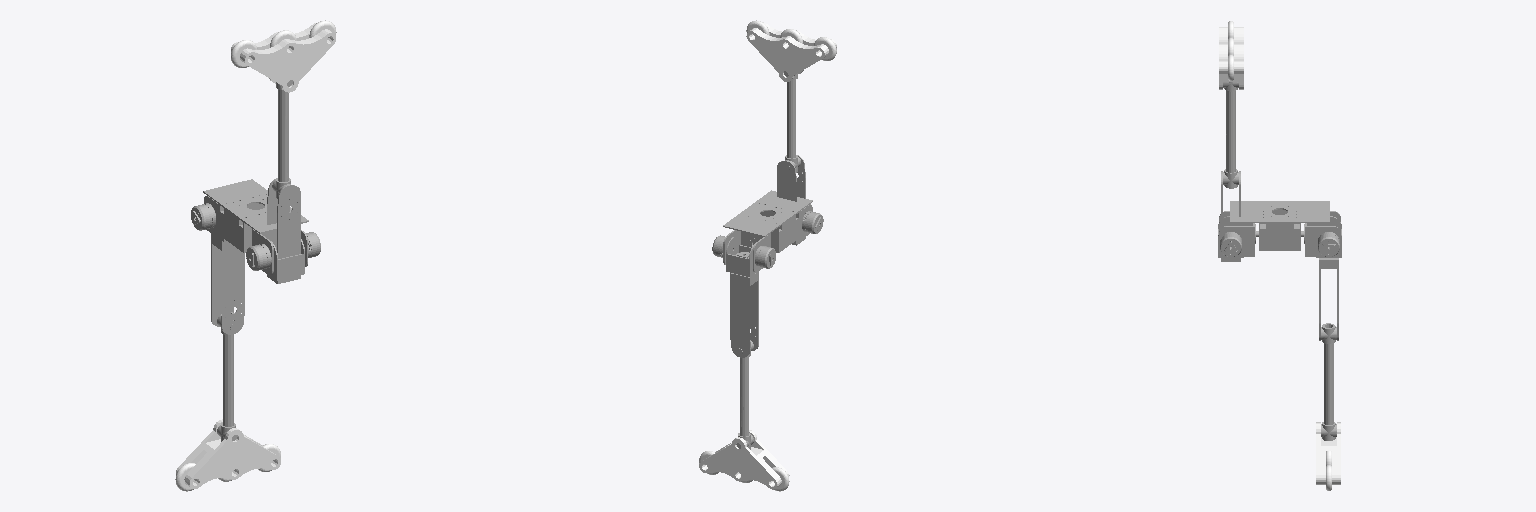
URDF robot description (Robot_Test):
<?xml version="1.0" encoding="utf-8"?>
<!-- This URDF was automatically created by SolidWorks to URDF Exporter! Originally created by [author] ([email redacted]) 
     Commit Version: 1.6.0-4-g7f85cfe  Build Version: 1.6.7995.38578
     For more information, please see http://wiki.ros.org/sw_urdf_exporter -->
<robot
  name="Robot_Test">
  <link
    name="base_link">
    <inertial>
      <origin
        xyz="1.38777878078145E-16 0 0.0127778759781516"
        rpy="0 0 0" />
      <mass
        value="1.01502616728323" />
      <inertia
        ixx="0.00199169500029189"
        ixy="-8.27963284748999E-07"
        ixz="2.38157893592389E-18"
        iyy="0.00128309024140103"
        iyz="3.02631370336162E-20"
        izz="0.00270762501832606" />
    </inertial>
    <visual>
      <origin
        xyz="0 0 0"
        rpy="0 0 0" />
      <geometry>
        <mesh
          filename="package://Robot_Test/meshes/base_link.STL" />
      </geometry>
      <material
        name="">
        <color
          rgba="0.752941176470588 0.752941176470588 0.752941176470588 1" />
      </material>
    </visual>
    <collision>
      <origin
        xyz="0 0 0"
        rpy="0 0 0" />
      <geometry>
        <mesh
          filename="package://Robot_Test/meshes/base_link.STL" />
      </geometry>
    </collision>
  </link>
  <link
    name="Link_Tip_Pitch_R">
    <inertial>
      <origin
        xyz="7.26667524280356E-05 7.16410264445244E-12 0.0599676329518597"
        rpy="0 0 0" />
      <mass
        value="0.588138632359538" />
      <inertia
        ixx="0.000628889034144778"
        ixy="-1.3926293459223E-07"
        ixz="6.01392594346271E-08"
        iyy="0.000508580005596835"
        iyz="-6.99398789319623E-07"
        izz="0.000590533605048368" />
    </inertial>
    <visual>
      <origin
        xyz="0 0 0"
        rpy="0 0 0" />
      <geometry>
        <mesh
          filename="package://Robot_Test/meshes/Link_Tip_Pitch_R.STL" />
      </geometry>
      <material
        name="">
        <color
          rgba="0.752941176470588 0.752941176470588 0.752941176470588 1" />
      </material>
    </visual>
    <collision>
      <origin
        xyz="0 0 0"
        rpy="0 0 0" />
      <geometry>
        <mesh
          filename="package://Robot_Test/meshes/Link_Tip_Pitch_R.STL" />
      </geometry>
    </collision>
  </link>
  <joint
    name="Tip_Pitch_R"
    type="revolute">
    <origin
      xyz="0 -0.07610000000001 0"
      rpy="1.57079632679489 1.5707963267949 0" />
    <parent
      link="base_link" />
    <child
      link="Link_Tip_Pitch_R" />
    <axis
      xyz="0 0 -1" />
    <limit
      lower="-3.14"
      upper="3.14"
      effort="10"
      velocity="1" />
  </joint>
  <link
    name="Link_Tip_Roll_R">
    <inertial>
      <origin
        xyz="0.0313786304226126 -0.00010396532346521 0.0389036272187343"
        rpy="0 0 0" />
      <mass
        value="0.330942372833192" />
      <inertia
        ixx="0.000175362379790137"
        ixy="4.85120300723541E-07"
        ixz="1.22897229556697E-08"
        iyy="0.00015737545608147"
        iyz="-1.8662787654118E-09"
        izz="0.000164229108181993" />
    </inertial>
    <visual>
      <origin
        xyz="0 0 0"
        rpy="0 0 0" />
      <geometry>
        <mesh
          filename="package://Robot_Test/meshes/Link_Tip_Roll_R.STL" />
      </geometry>
      <material
        name="">
        <color
          rgba="0.752941176470588 0.752941176470588 0.752941176470588 1" />
      </material>
    </visual>
    <collision>
      <origin
        xyz="0 0 0"
        rpy="0 0 0" />
      <geometry>
        <mesh
          filename="package://Robot_Test/meshes/Link_Tip_Roll_R.STL" />
      </geometry>
    </collision>
  </link>
  <joint
    name="Tip_Roll_R"
    type="revolute">
    <origin
      xyz="0 -0.0388999999999912 0.0699999999999998"
      rpy="-1.5707963267949 0 0" />
    <parent
      link="Link_Tip_Pitch_R" />
    <child
      link="Link_Tip_Roll_R" />
    <axis
      xyz="0 0 1" />
    <limit
      lower="-3.14"
      upper="3.14"
      effort="10"
      velocity="1" />
  </joint>
  <link
    name="Link_Tip_Yaw_R">
    <inertial>
      <origin
        xyz="0.000220549994087438 0.000208565009961026 0.081091941480044"
        rpy="0 0 0" />
      <mass
        value="0.246255723847474" />
      <inertia
        ixx="0.000911459330824827"
        ixy="-5.78607700305177E-21"
        ixz="-6.3352921638675E-06"
        iyy="0.000991950074887344"
        iyz="-1.47831497347633E-20"
        izz="0.000123172179108965" />
    </inertial>
    <visual>
      <origin
        xyz="0 0 0"
        rpy="0 0 0" />
      <geometry>
        <mesh
          filename="package://Robot_Test/meshes/Link_Tip_Yaw_R.STL" />
      </geometry>
      <material
        name="">
        <color
          rgba="0.752941176470588 0.752941176470588 0.752941176470588 1" />
      </material>
    </visual>
    <collision>
      <origin
        xyz="0 0 0"
        rpy="0 0 0" />
      <geometry>
        <mesh
          filename="package://Robot_Test/meshes/Link_Tip_Yaw_R.STL" />
      </geometry>
    </collision>
  </link>
  <joint
    name="Tip_Yaw_R"
    type="revolute">
    <origin
      xyz="0.0721000000000094 0 0.0388999999999823"
      rpy="0 -1.5707963267949 0" />
    <parent
      link="Link_Tip_Roll_R" />
    <child
      link="Link_Tip_Yaw_R" />
    <axis
      xyz="0 0 -1" />
    <limit
      lower="-3.14"
      upper="3.14"
      effort="10"
      velocity="1" />
  </joint>
  <link
    name="Link_Knee_R">
    <inertial>
      <origin
        xyz="-0.000256572140561295 0.160000004497887 0.0249864042327025"
        rpy="0 0 0" />
      <mass
        value="0.232870990924282" />
      <inertia
        ixx="0.00153800786441307"
        ixy="-1.64923074888398E-11"
        ixz="-1.54093473227749E-13"
        iyy="7.15958412480534E-05"
        iyz="-1.67418021329198E-11"
        izz="0.00152117941730256" />
    </inertial>
    <visual>
      <origin
        xyz="0 0 0"
        rpy="0 0 0" />
      <geometry>
        <mesh
          filename="package://Robot_Test/meshes/Link_Knee_R.STL" />
      </geometry>
      <material
        name="">
        <color
          rgba="0.752941176470588 0.752941176470588 0.752941176470588 1" />
      </material>
    </visual>
    <collision>
      <origin
        xyz="0 0 0"
        rpy="0 0 0" />
      <geometry>
        <mesh
          filename="package://Robot_Test/meshes/Link_Knee_R.STL" />
      </geometry>
    </collision>
  </link>
  <joint
    name="Joint_Knee_R"
    type="revolute">
    <origin
      xyz="0.00012829 0.025 0.256"
      rpy="1.5708 0 0" />
    <parent
      link="Link_Tip_Yaw_R" />
    <child
      link="Link_Knee_R" />
    <axis
      xyz="0 0 -1" />
    <limit
      lower="-3.14"
      upper="3.14"
      effort="10"
      velocity="1" />
  </joint>
  <link
    name="Foot_R">
    <inertial>
      <origin
        xyz="-1.38777878078145E-16 0.0673431643549857 0.0300000000000003"
        rpy="0 0 0" />
      <mass
        value="1.04708545595828" />
      <inertia
        ixx="0.0015168990537752"
        ixy="-1.28617525634553E-17"
        ixz="-8.91687377830931E-19"
        iyy="0.00504019711146672"
        iyz="2.96255869600374E-19"
        izz="0.00522591267555326" />
    </inertial>
    <visual>
      <origin
        xyz="0 0 0"
        rpy="0 0 0" />
      <geometry>
        <mesh
          filename="package://Robot_Test/meshes/Foot_R.STL" />
      </geometry>
      <material
        name="">
        <color
          rgba="1 1 1 1" />
      </material>
    </visual>
    <collision>
      <origin
        xyz="0 0 0"
        rpy="0 0 0" />
      <geometry>
        <mesh
          filename="package://Robot_Test/meshes/Foot_R.STL" />
      </geometry>
    </collision>
  </link>
  <joint
    name="Joint_Ankle_R_Pitch"
    type="revolute">
    <origin
      xyz="-0.00025657246191152 0.32 -0.00500000000000009"
      rpy="0 0 0" />
    <parent
      link="Link_Knee_R" />
    <child
      link="Foot_R" />
    <axis
      xyz="0 0 1" />
    <limit
      lower="-3.14"
      upper="3.14"
      effort="10"
      velocity="1" />
  </joint>
  <link
    name="Link_Wheels_R1">
    <inertial>
      <origin
        xyz="-1.66533453693773E-16 0 0.00999999999999995"
        rpy="0 0 0" />
      <mass
        value="0.0827436169509835" />
      <inertia
        ixx="3.51219388929249E-05"
        ixy="-1.3508031732286E-22"
        ixz="4.19644068628304E-21"
        iyy="3.51219388929249E-05"
        iyz="2.39298310379952E-22"
        izz="6.53328179479664E-05" />
    </inertial>
    <visual>
      <origin
        xyz="0 0 0"
        rpy="0 0 0" />
      <geometry>
        <mesh
          filename="package://Robot_Test/meshes/Link_Wheels_R1.STL" />
      </geometry>
      <material
        name="">
        <color
          rgba="1 1 1 1" />
      </material>
    </visual>
    <collision>
      <origin
        xyz="0 0 0"
        rpy="0 0 0" />
      <geometry>
        <mesh
          filename="package://Robot_Test/meshes/Link_Wheels_R1.STL" />
      </geometry>
    </collision>
  </link>
  <joint
    name="Joint_Wheels_R1"
    type="continuous">
    <origin
      xyz="0.12 0.100000000000001 0.0200000000000002"
      rpy="0 0 0" />
    <parent
      link="Foot_R" />
    <child
      link="Link_Wheels_R1" />
    <axis
      xyz="0 0 1" />
  </joint>
  <link
    name="Link_Wheels_R2">
    <inertial>
      <origin
        xyz="-8.32667268468867E-17 -1.11022302462516E-16 0.01"
        rpy="0 0 0" />
      <mass
        value="0.0827436169509835" />
      <inertia
        ixx="3.51219388929249E-05"
        ixy="-1.15710504645589E-22"
        ixz="3.20261454854662E-21"
        iyy="3.51219388929249E-05"
        iyz="-3.43997904551972E-21"
        izz="6.53328179479664E-05" />
    </inertial>
    <visual>
      <origin
        xyz="0 0 0"
        rpy="0 0 0" />
      <geometry>
        <mesh
          filename="package://Robot_Test/meshes/Link_Wheels_R2.STL" />
      </geometry>
      <material
        name="">
        <color
          rgba="1 1 1 1" />
      </material>
    </visual>
    <collision>
      <origin
        xyz="0 0 0"
        rpy="0 0 0" />
      <geometry>
        <mesh
          filename="package://Robot_Test/meshes/Link_Wheels_R2.STL" />
      </geometry>
    </collision>
  </link>
  <joint
    name="Joint_Wheels_R2"
    type="continuous">
    <origin
      xyz="0 0.1 0.02"
      rpy="0 0 0" />
    <parent
      link="Foot_R" />
    <child
      link="Link_Wheels_R2" />
    <axis
      xyz="0 0 1" />
  </joint>
  <link
    name="Link_Wheels_R3">
    <inertial>
      <origin
        xyz="-1.73472347597681E-16 0 0.01"
        rpy="0 0 0" />
      <mass
        value="0.0827436169509835" />
      <inertia
        ixx="3.51219388929249E-05"
        ixy="-4.29186107409224E-23"
        ixz="3.86810968220558E-21"
        iyy="3.51219388929249E-05"
        iyz="-3.64481238504776E-21"
        izz="6.53328179479664E-05" />
    </inertial>
    <visual>
      <origin
        xyz="0 0 0"
        rpy="0 0 0" />
      <geometry>
        <mesh
          filename="package://Robot_Test/meshes/Link_Wheels_R3.STL" />
      </geometry>
      <material
        name="">
        <color
          rgba="1 1 1 1" />
      </material>
    </visual>
    <collision>
      <origin
        xyz="0 0 0"
        rpy="0 0 0" />
      <geometry>
        <mesh
          filename="package://Robot_Test/meshes/Link_Wheels_R3.STL" />
      </geometry>
    </collision>
  </link>
  <joint
    name="Joint_Wheels_R3"
    type="continuous">
    <origin
      xyz="-0.12 0.1 0.02"
      rpy="0 0 0" />
    <parent
      link="Foot_R" />
    <child
      link="Link_Wheels_R3" />
    <axis
      xyz="0 0 1" />
  </joint>
  <link
    name="Link_Tip_Pitch_L">
    <inertial>
      <origin
        xyz="7.16451897808668E-12 -7.26667524277025E-05 0.0599676329518603"
        rpy="0 0 0" />
      <mass
        value="0.588138632359538" />
      <inertia
        ixx="0.000508580005596835"
        ixy="1.39262934591603E-07"
        ixz="-6.99398789319665E-07"
        iyy="0.000628889034144778"
        iyz="-6.01392594345716E-08"
        izz="0.000590533605048367" />
    </inertial>
    <visual>
      <origin
        xyz="0 0 0"
        rpy="0 0 0" />
      <geometry>
        <mesh
          filename="package://Robot_Test/meshes/Link_Tip_Pitch_L.STL" />
      </geometry>
      <material
        name="">
        <color
          rgba="0.752941176470588 0.752941176470588 0.752941176470588 1" />
      </material>
    </visual>
    <collision>
      <origin
        xyz="0 0 0"
        rpy="0 0 0" />
      <geometry>
        <mesh
          filename="package://Robot_Test/meshes/Link_Tip_Pitch_L.STL" />
      </geometry>
    </collision>
  </link>
  <joint
    name="Tip_Pitch_L"
    type="revolute">
    <origin
      xyz="0 0.0761000000000099 0"
      rpy="-1.5707963267949 0 0" />
    <parent
      link="base_link" />
    <child
      link="Link_Tip_Pitch_L" />
    <axis
      xyz="0 0 -1" />
    <limit
      lower="-3.14"
      upper="3.14"
      effort="10"
      velocity="1" />
  </joint>
  <link
    name="Link_Tip_Roll_L">
    <inertial>
      <origin
        xyz="0.0313786304226134 -0.00010396532346485 0.038903627218733"
        rpy="0 0 0" />
      <mass
        value="0.330942372833192" />
      <inertia
        ixx="0.000175362379790137"
        ixy="4.85120300723585E-07"
        ixz="1.22897229556406E-08"
        iyy="0.000157375456081469"
        iyz="-1.86627876541421E-09"
        izz="0.000164229108181993" />
    </inertial>
    <visual>
      <origin
        xyz="0 0 0"
        rpy="0 0 0" />
      <geometry>
        <mesh
          filename="package://Robot_Test/meshes/Link_Tip_Roll_L.STL" />
      </geometry>
      <material
        name="">
        <color
          rgba="0.752941176470588 0.752941176470588 0.752941176470588 1" />
      </material>
    </visual>
    <collision>
      <origin
        xyz="0 0 0"
        rpy="0 0 0" />
      <geometry>
        <mesh
          filename="package://Robot_Test/meshes/Link_Tip_Roll_L.STL" />
      </geometry>
    </collision>
  </link>
  <joint
    name="Tip_Roll_L"
    type="revolute">
    <origin
      xyz="-0.0388999999999909 0 0.0700000000000002"
      rpy="1.5707963267949 0 1.5707963267949" />
    <parent
      link="Link_Tip_Pitch_L" />
    <child
      link="Link_Tip_Roll_L" />
    <axis
      xyz="0 0 1" />
    <limit
      lower="-3.14"
      upper="3.14"
      effort="10"
      velocity="1" />
  </joint>
  <link
    name="Link_Tip_Yaw_L">
    <inertial>
      <origin
        xyz="0.000208565009961137 -0.00022054999408766 0.0810919414800439"
        rpy="0 0 0" />
      <mass
        value="0.246255723847473" />
      <inertia
        ixx="0.000991950074887339"
        ixy="-1.20761173811363E-21"
        ixz="-3.4033469983611E-20"
        iyy="0.000911459330824822"
        iyz="6.33529216386808E-06"
        izz="0.000123172179108964" />
    </inertial>
    <visual>
      <origin
        xyz="0 0 0"
        rpy="0 0 0" />
      <geometry>
        <mesh
          filename="package://Robot_Test/meshes/Link_Tip_Yaw_L.STL" />
      </geometry>
      <material
        name="">
        <color
          rgba="0.752941176470588 0.752941176470588 0.752941176470588 1" />
      </material>
    </visual>
    <collision>
      <origin
        xyz="0 0 0"
        rpy="0 0 0" />
      <geometry>
        <mesh
          filename="package://Robot_Test/meshes/Link_Tip_Yaw_L.STL" />
      </geometry>
    </collision>
  </link>
  <joint
    name="Tip_Yaw_L"
    type="revolute">
    <origin
      xyz="0.0721000000000103 0 0.038899999999981"
      rpy="1.5707963267949 0 1.5707963267949" />
    <parent
      link="Link_Tip_Roll_L" />
    <child
      link="Link_Tip_Yaw_L" />
    <axis
      xyz="0 0 1" />
    <limit
      lower="-3.14"
      upper="3.14"
      effort="10"
      velocity="1" />
  </joint>
  <link
    name="Link_Knee_L">
    <inertial>
      <origin
        xyz="-0.00025657214056185 0.159999995502114 0.0250135957672981"
        rpy="0 0 0" />
      <mass
        value="0.232870990924281" />
      <inertia
        ixx="0.00153800786441306"
        ixy="1.64923073247064E-11"
        ixz="1.54093444921414E-13"
        iyy="7.15958412480537E-05"
        iyz="-1.67418021753219E-11"
        izz="0.00152117941730254" />
    </inertial>
    <visual>
      <origin
        xyz="0 0 0"
        rpy="0 0 0" />
      <geometry>
        <mesh
          filename="package://Robot_Test/meshes/Link_Knee_L.STL" />
      </geometry>
      <material
        name="">
        <color
          rgba="0.752941176470588 0.752941176470588 0.752941176470588 1" />
      </material>
    </visual>
    <collision>
      <origin
        xyz="0 0 0"
        rpy="0 0 0" />
      <geometry>
        <mesh
          filename="package://Robot_Test/meshes/Link_Knee_L.STL" />
      </geometry>
    </collision>
  </link>
  <joint
    name="Joint_Knee_L"
    type="revolute">
    <origin
      xyz="0.0250000000000001 -0.000128286230955676 0.256"
      rpy="1.5707963267949 0 -1.57079632679489" />
    <parent
      link="Link_Tip_Yaw_L" />
    <child
      link="Link_Knee_L" />
    <axis
      xyz="0 0 -1" />
    <limit
      lower="-3.14"
      upper="3.14"
      effort="10"
      velocity="1" />
  </joint>
  <link
    name="Foot_L">
    <inertial>
      <origin
        xyz="2.4980018054066E-16 0.0673431643549856 0.0299999999999996"
        rpy="0 0 0" />
      <mass
        value="1.04708545595828" />
      <inertia
        ixx="0.0015168990537752"
        ixy="1.30407462926261E-17"
        ixz="-1.20288554914763E-20"
        iyy="0.00504019711146673"
        iyz="4.57254806495585E-19"
        izz="0.00522591267555326" />
    </inertial>
    <visual>
      <origin
        xyz="0 0 0"
        rpy="0 0 0" />
      <geometry>
        <mesh
          filename="package://Robot_Test/meshes/Foot_L.STL" />
      </geometry>
      <material
        name="">
        <color
          rgba="1 1 1 1" />
      </material>
    </visual>
    <collision>
      <origin
        xyz="0 0 0"
        rpy="0 0 0" />
      <geometry>
        <mesh
          filename="package://Robot_Test/meshes/Foot_L.STL" />
      </geometry>
    </collision>
  </link>
  <joint
    name="Joint_Ankle_L_Pitch"
    type="revolute">
    <origin
      xyz="-0.000256572461910992 0.32 -0.00499999999999945"
      rpy="0 0 0" />
    <parent
      link="Link_Knee_L" />
    <child
      link="Foot_L" />
    <axis
      xyz="0 0 1" />
    <limit
      lower="-3.14"
      upper="3.14"
      effort="10"
      velocity="1" />
  </joint>
  <link
    name="Link_Wheels_L1">
    <inertial>
      <origin
        xyz="-1.27675647831893E-15 2.22044604925031E-16 0.0100000000000006"
        rpy="0 0 0" />
      <mass
        value="0.0827436169509835" />
      <inertia
        ixx="3.51219388929249E-05"
        ixy="1.33413893047137E-21"
        ixz="-7.72963933030929E-20"
        iyy="3.51219388929249E-05"
        iyz="-2.66355670182258E-21"
        izz="6.53328179479664E-05" />
    </inertial>
    <visual>
      <origin
        xyz="0 0 0"
        rpy="0 0 0" />
      <geometry>
        <mesh
          filename="package://Robot_Test/meshes/Link_Wheels_L1.STL" />
      </geometry>
      <material
        name="">
        <color
          rgba="1 1 1 1" />
      </material>
    </visual>
    <collision>
      <origin
        xyz="0 0 0"
        rpy="0 0 0" />
      <geometry>
        <mesh
          filename="package://Robot_Test/meshes/Link_Wheels_L1.STL" />
      </geometry>
    </collision>
  </link>
  <joint
    name="Joint_Wheels_L1"
    type="continuous">
    <origin
      xyz="-0.12 0.1 0.0399999999999997"
      rpy="-3.14159265358979 0 3.14159265358979" />
    <parent
      link="Foot_L" />
    <child
      link="Link_Wheels_L1" />
    <axis
      xyz="0 0 -1" />
  </joint>
  <link
    name="Link_Wheels_L2">
    <inertial>
      <origin
        xyz="-1.2490009027033E-15 0 0.0100000000000003"
        rpy="0 0 0" />
      <mass
        value="0.0827436169509835" />
      <inertia
        ixx="3.51219388929249E-05"
        ixy="-7.94300183204136E-22"
        ixz="-7.98865573070038E-20"
        iyy="3.51219388929249E-05"
        iyz="-2.39291983116289E-21"
        izz="6.53328179479664E-05" />
    </inertial>
    <visual>
      <origin
        xyz="0 0 0"
        rpy="0 0 0" />
      <geometry>
        <mesh
          filename="package://Robot_Test/meshes/Link_Wheels_L2.STL" />
      </geometry>
      <material
        name="">
        <color
          rgba="1 1 1 1" />
      </material>
    </visual>
    <collision>
      <origin
        xyz="0 0 0"
        rpy="0 0 0" />
      <geometry>
        <mesh
          filename="package://Robot_Test/meshes/Link_Wheels_L2.STL" />
      </geometry>
    </collision>
  </link>
  <joint
    name="Joint_Wheels_L2"
    type="continuous">
    <origin
      xyz="0 0.1 0.0399999999999996"
      rpy="3.14159265358979 0 3.14159265358979" />
    <parent
      link="Foot_L" />
    <child
      link="Link_Wheels_L2" />
    <axis
      xyz="0 0 -1" />
  </joint>
  <link
    name="Link_Wheels_L3">
    <inertial>
      <origin
        xyz="-1.18655085756814E-15 -1.11022302462516E-16 0.00999999999999995"
        rpy="0 0 0" />
      <mass
        value="0.0827436169509835" />
      <inertia
        ixx="3.51219388929249E-05"
        ixy="-4.47022189367286E-22"
        ixz="-7.25383710436175E-20"
        iyy="3.51219388929249E-05"
        iyz="-2.05413267318539E-21"
        izz="6.53328179479664E-05" />
    </inertial>
    <visual>
      <origin
        xyz="0 0 0"
        rpy="0 0 0" />
      <geometry>
        <mesh
          filename="package://Robot_Test/meshes/Link_Wheels_L3.STL" />
      </geometry>
      <material
        name="">
        <color
          rgba="1 1 1 1" />
      </material>
    </visual>
    <collision>
      <origin
        xyz="0 0 0"
        rpy="0 0 0" />
      <geometry>
        <mesh
          filename="package://Robot_Test/meshes/Link_Wheels_L3.STL" />
      </geometry>
    </collision>
  </link>
  <joint
    name="Joint_Wheels_L3"
    type="continuous">
    <origin
      xyz="0.12 0.0999999999999996 0.0399999999999997"
      rpy="3.14159265358979 0 -3.14159265358979" />
    <parent
      link="Foot_L" />
    <child
      link="Link_Wheels_L3" />
    <axis
      xyz="0 0 -1" />
  </joint>
</robot>

--- Render facts (derived) ---
3 views of the same robot in one strip: view 1: azimuth 30°, elevation 25°; view 2: azimuth 150°, elevation 25°; view 3: azimuth 270°, elevation 25° (orthographic).
Model Robot_Test with 17 links and 16 joints (10 revolute, 6 continuous), rooted at base_link, posed every joint at zero.
Visible links, largest first — view 1: Foot_L, Foot_R, base_link, Link_Tip_Yaw_L, Link_Tip_Yaw_R, Link_Tip_Pitch_R, Link_Knee_L, Link_Knee_R, Link_Tip_Pitch_L, Link_Tip_Roll_R; view 2: base_link, Foot_L, Foot_R, Link_Tip_Yaw_L, Link_Tip_Pitch_L, Link_Tip_Yaw_R, Link_Knee_L, Link_Knee_R, Link_Tip_Roll_L, Link_Tip_Pitch_R; view 3: base_link, Link_Knee_L, Link_Tip_Pitch_L, Link_Knee_R, Link_Tip_Pitch_R, Foot_R, Foot_L.
Boxes of the visible links, bbox=[...] form: Foot_L: bbox=[176, 419, 280, 488]; Foot_R: bbox=[231, 23, 335, 92]; base_link: bbox=[203, 179, 308, 252]; Link_Tip_Yaw_L: bbox=[211, 233, 244, 334]; Link_Tip_Yaw_R: bbox=[267, 178, 300, 283]; Link_Tip_Pitch_R: bbox=[246, 229, 320, 275]; Link_Knee_L: bbox=[217, 312, 237, 441]; Link_Knee_R: bbox=[272, 80, 292, 198]; Link_Tip_Pitch_L: bbox=[191, 196, 226, 241]; Link_Tip_Roll_R: bbox=[271, 239, 304, 280]; base_link: bbox=[723, 190, 812, 252]; Foot_L: bbox=[699, 430, 789, 489]; Foot_R: bbox=[746, 22, 836, 81]; Link_Tip_Yaw_L: bbox=[730, 272, 758, 357]; Link_Tip_Pitch_L: bbox=[712, 230, 775, 272]; Link_Tip_Yaw_R: bbox=[777, 155, 805, 245]; Link_Knee_L: bbox=[736, 340, 753, 449]; Link_Knee_R: bbox=[784, 71, 800, 172]; Link_Tip_Roll_L: bbox=[726, 237, 754, 276]; Link_Tip_Pitch_R: bbox=[792, 204, 823, 243]; base_link: bbox=[1230, 201, 1329, 250]; Link_Knee_L: bbox=[1321, 323, 1336, 440]; Link_Tip_Pitch_L: bbox=[1304, 211, 1340, 256]; Link_Knee_R: bbox=[1223, 82, 1238, 188]; Link_Tip_Pitch_R: bbox=[1219, 211, 1255, 256]; Foot_R: bbox=[1219, 27, 1243, 89]; Foot_L: bbox=[1316, 422, 1340, 484].
Bounding box of the posed robot: 0.3202 × 0.3722 × 1.43 m (x, y, z).
17 mesh visuals loaded from 17 distinct referenced files (17 binary STL).